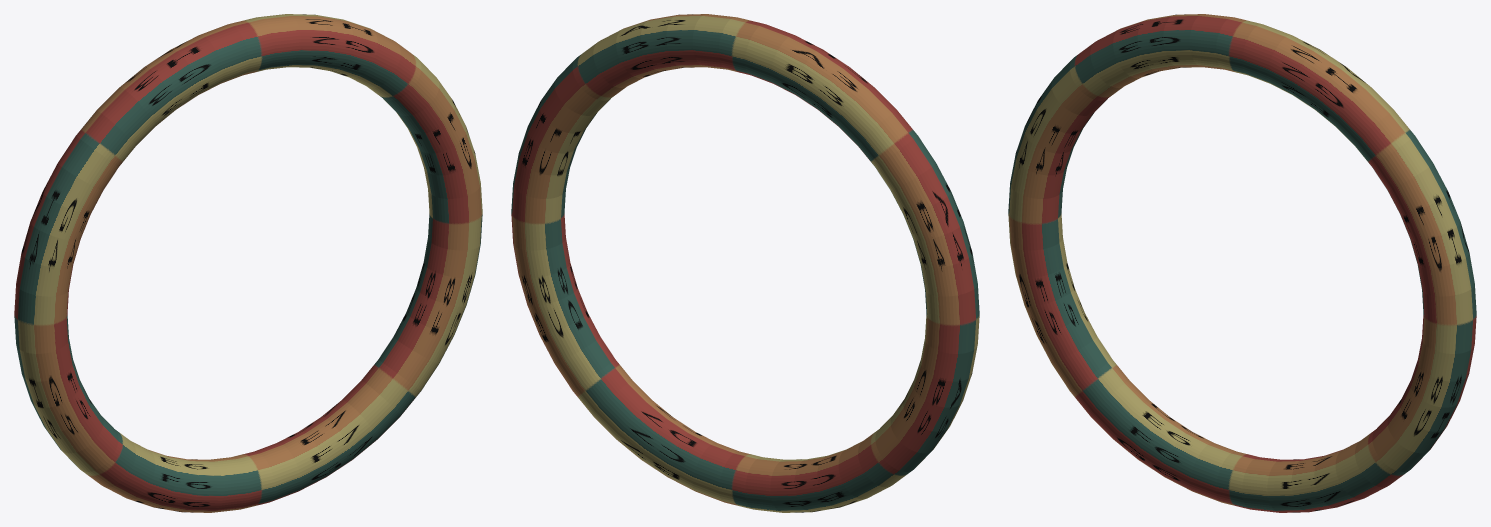
The model's file is texture_torus_R30_r5.glb.
The picture shows the model from 3 angles, left to right: view 1: azimuth 30°, elevation 25°; view 2: azimuth 150°, elevation 25°; view 3: azimuth 330°, elevation 25°; orthographic projection.
Parts seen in each view (by area): view 1: world; view 2: world; view 3: world.
Boxes of the visible parts, x1,y1,x2,y2 form: world: (14, 14, 482, 512); world: (511, 14, 979, 512); world: (1008, 14, 1476, 512).
Size of the model in its own units: 33.33 by 33.27 by 3.33.
1 material, 1 textured.
